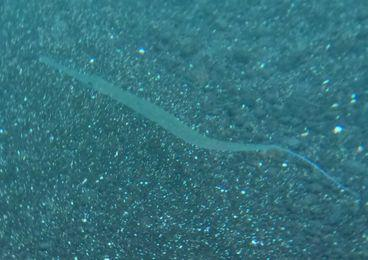Fistularia commersonii: (36, 50, 351, 196)
